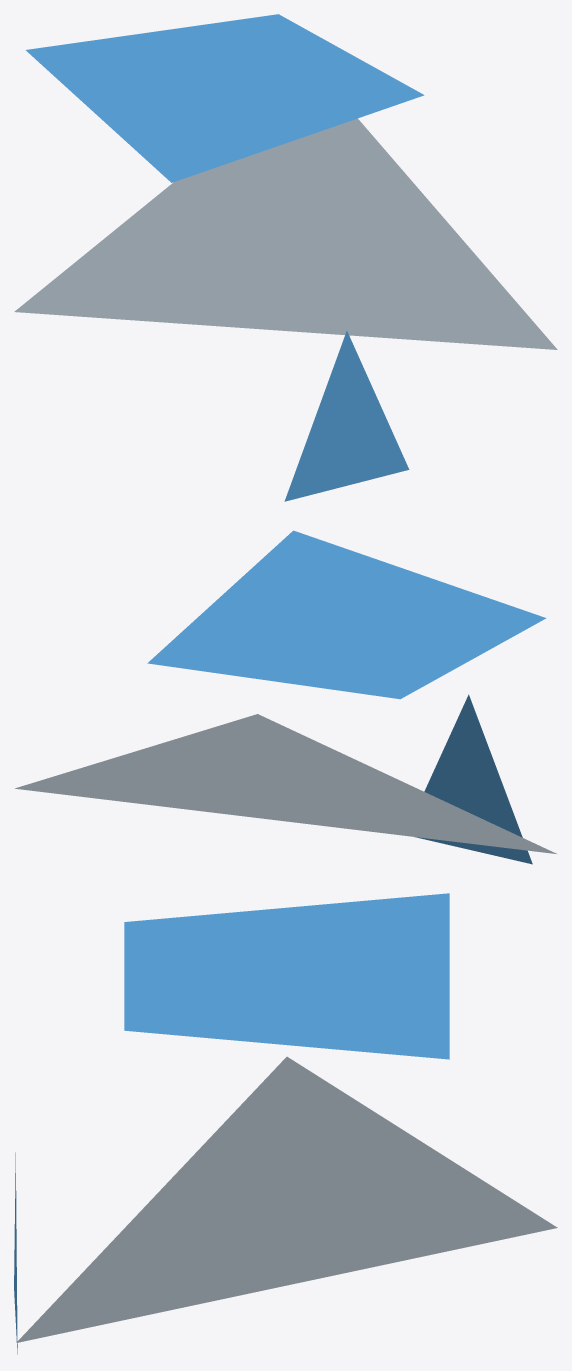
Rendered from AL_SuperweaponChrono_LOD2.glb.
3 views of the same model, one above another, from view 1: azimuth 30°, elevation 25°; view 2: azimuth 150°, elevation 25°; view 3: azimuth 270°, elevation 25° (orthographic). The views are drawn at different scales.
Visible parts, largest first — view 1: EntranceGate; view 2: EntranceGate; view 3: EntranceGate.
Boxes of the visible parts, box(x1,y1,x2,y2) form: EntranceGate: box(14, 14, 557, 501); EntranceGate: box(15, 530, 557, 864); EntranceGate: box(14, 893, 557, 1354).
Size of the model in its own units: 1000 by 733 by 1003.
